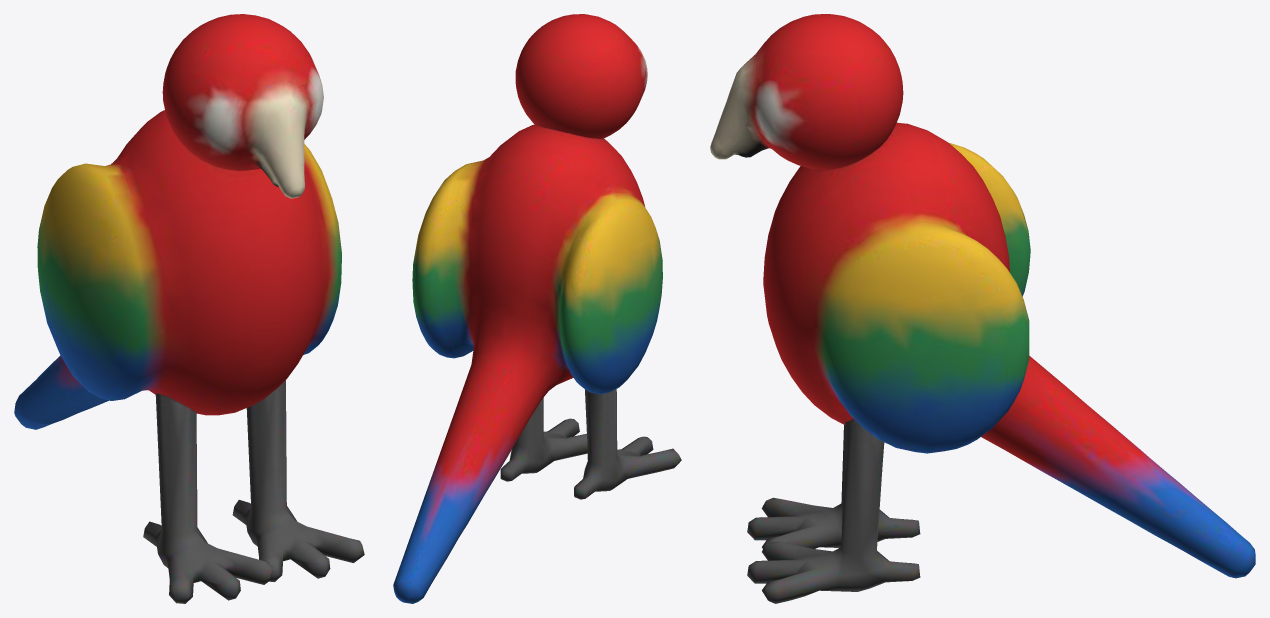
The model's file is animal_parrot.glb.
3 renders of one model, left to right at view 1: azimuth 30°, elevation 25°; view 2: azimuth 150°, elevation 25°; view 3: azimuth 270°, elevation 25°, orthographic. The views are drawn at different scales.
Parts seen in each view (by area): view 1: animal_parrot, head, leg0, leg1; view 2: animal_parrot, head, leg0, leg1; view 3: animal_parrot, head, leg1, leg0.
Boxes of the visible parts, box(x1,y1,x2,y2) form: animal_parrot: box(14, 110, 341, 429); head: box(162, 14, 323, 198); leg0: box(143, 393, 273, 603); leg1: box(232, 380, 364, 581); animal_parrot: box(393, 124, 662, 603); head: box(515, 14, 647, 138); leg0: box(574, 389, 681, 499); leg1: box(500, 398, 587, 481); animal_parrot: box(763, 122, 1255, 578); head: box(710, 14, 903, 169); leg1: box(747, 419, 920, 603); leg0: box(747, 425, 920, 548).
Bounding box in the file's own units: 0.1398 × 0.2981 × 0.2654.
1 material, 1 textured.
